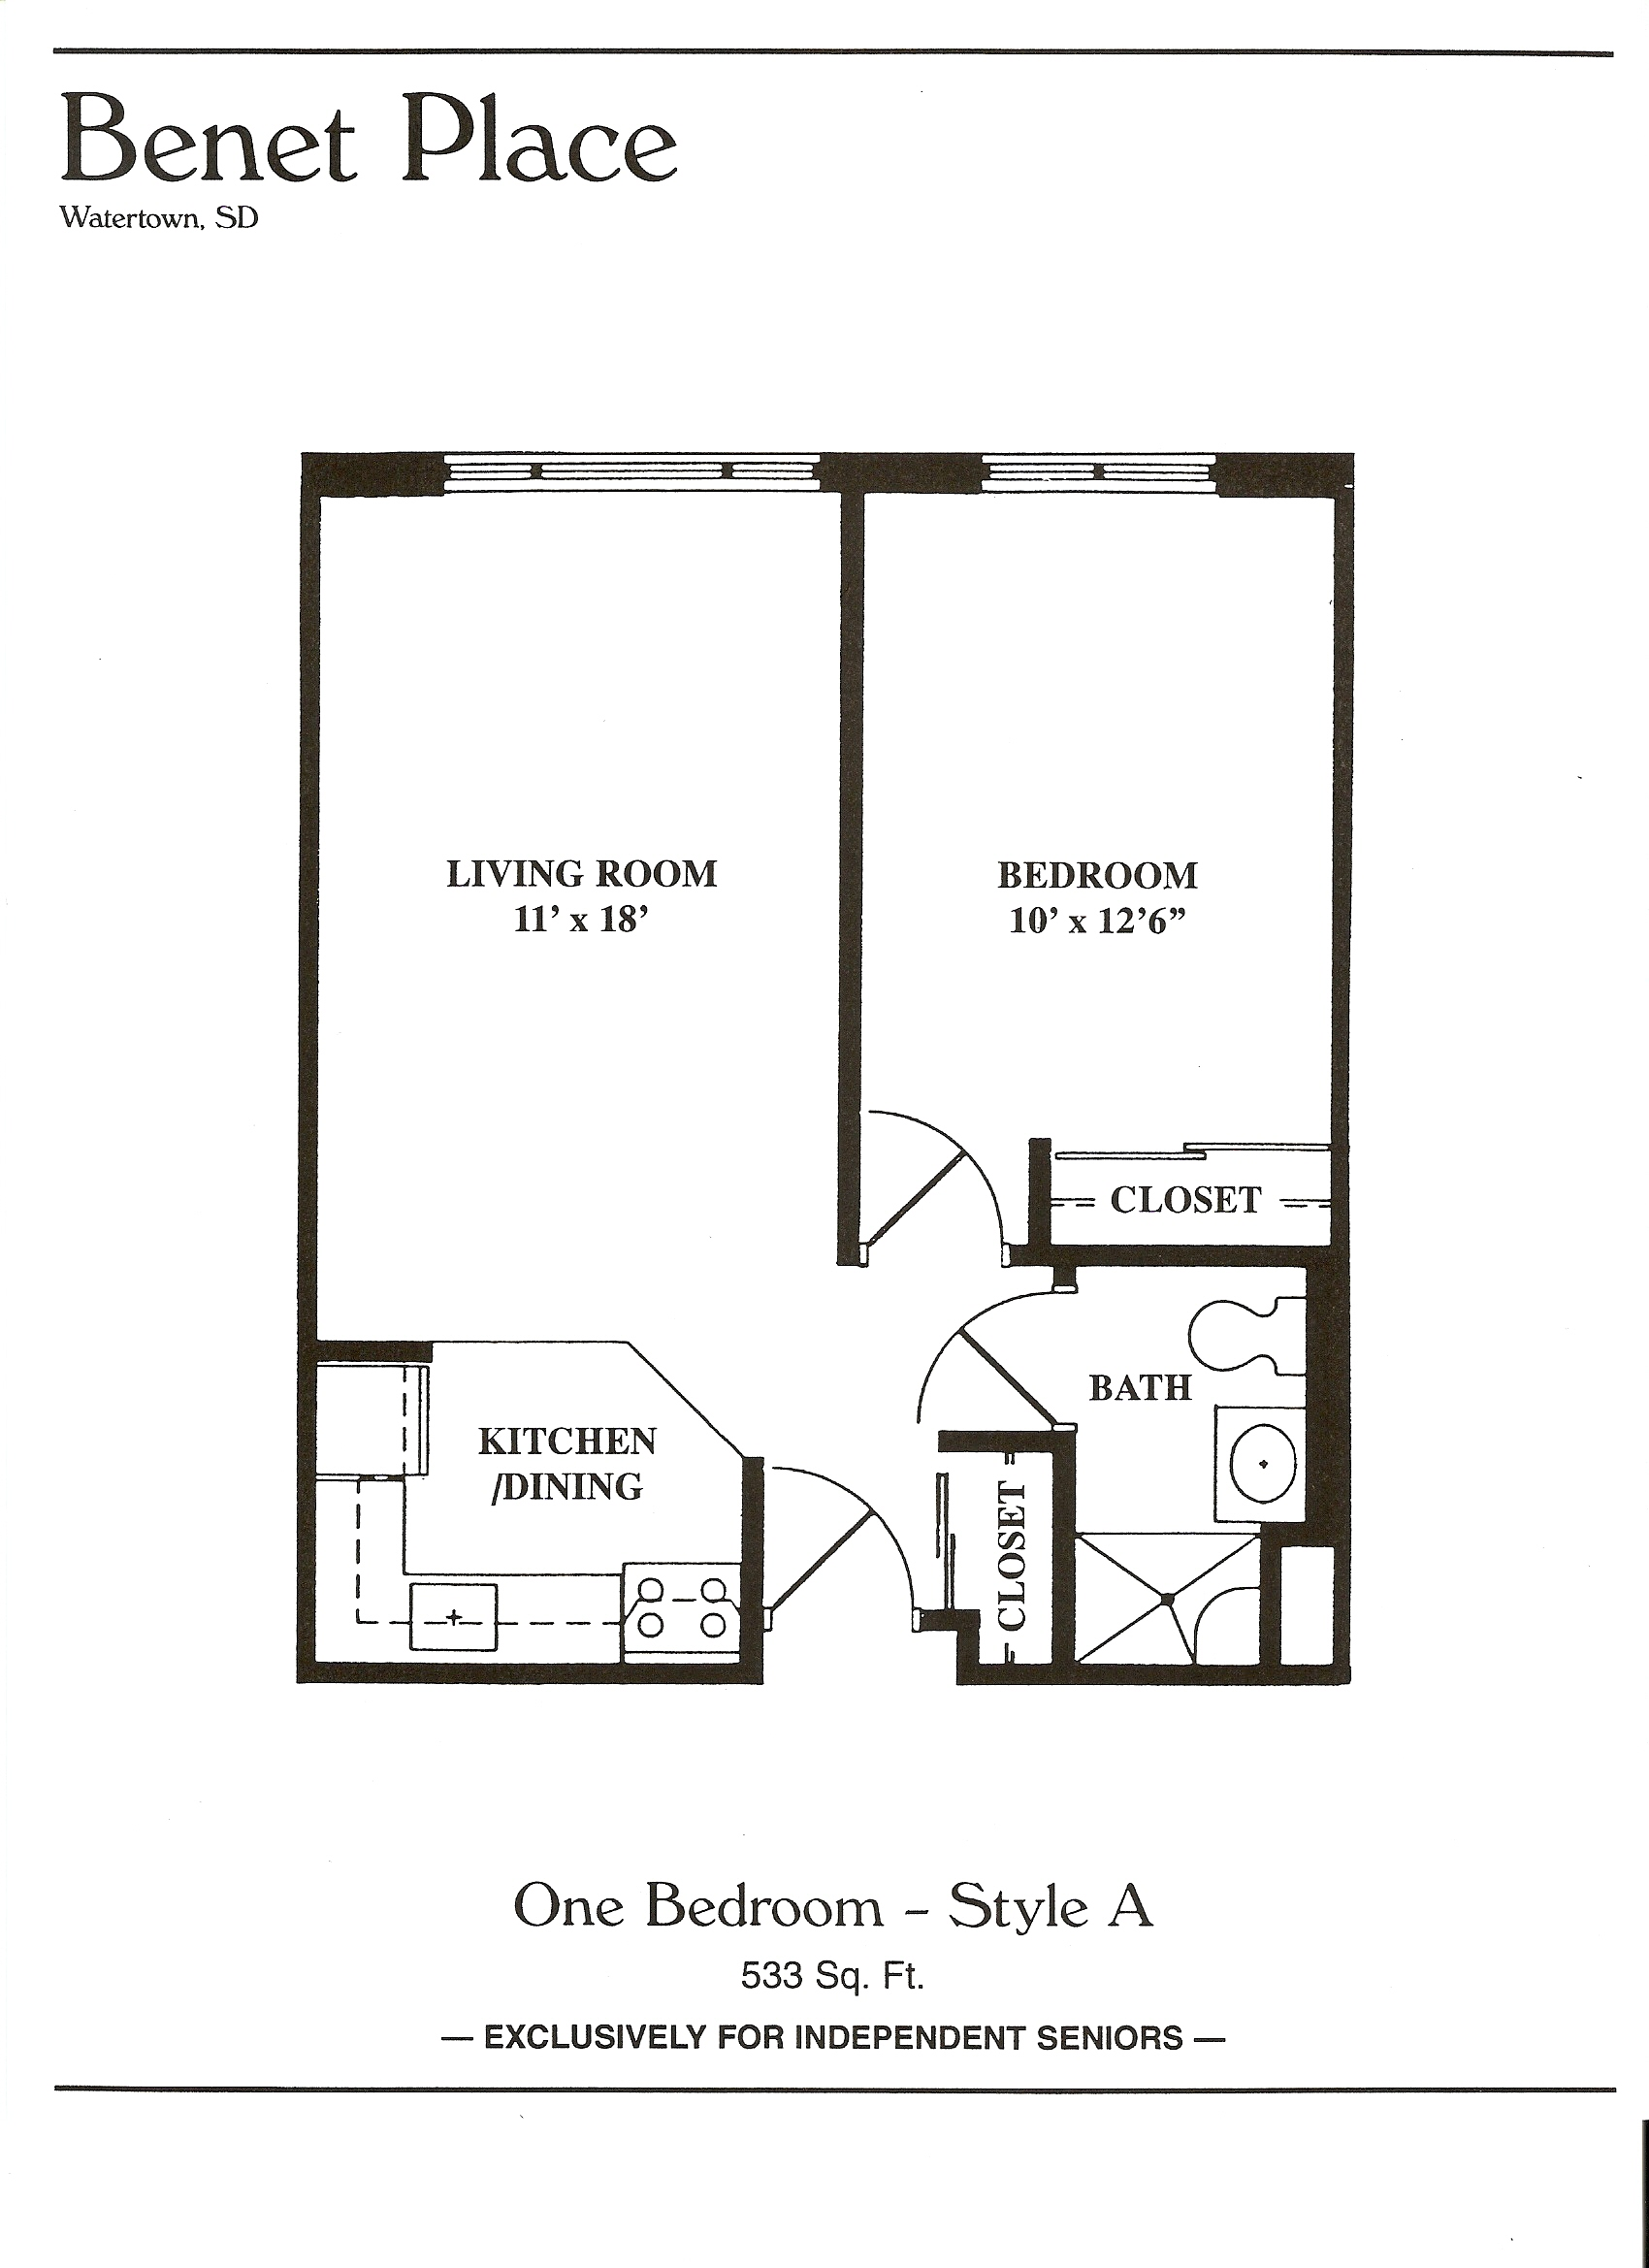room: (310, 465, 861, 1358), (839, 458, 1348, 1268), (908, 1247, 1352, 1678), (306, 1345, 766, 1683)
